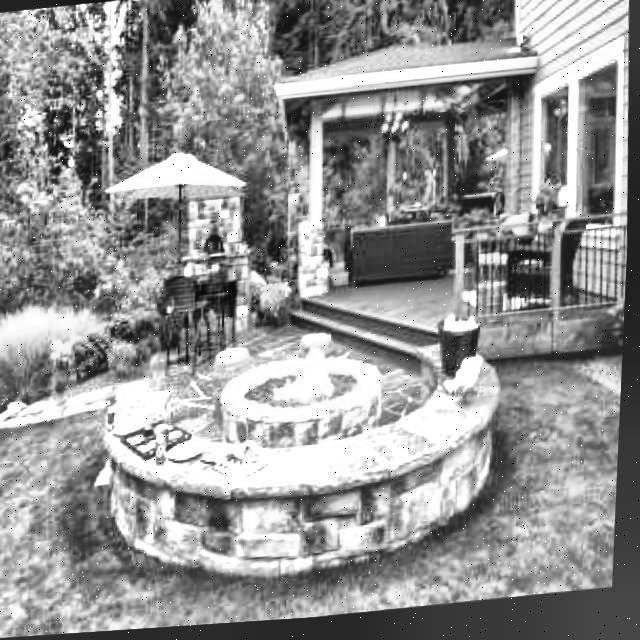Fire: (277, 344, 335, 410)
